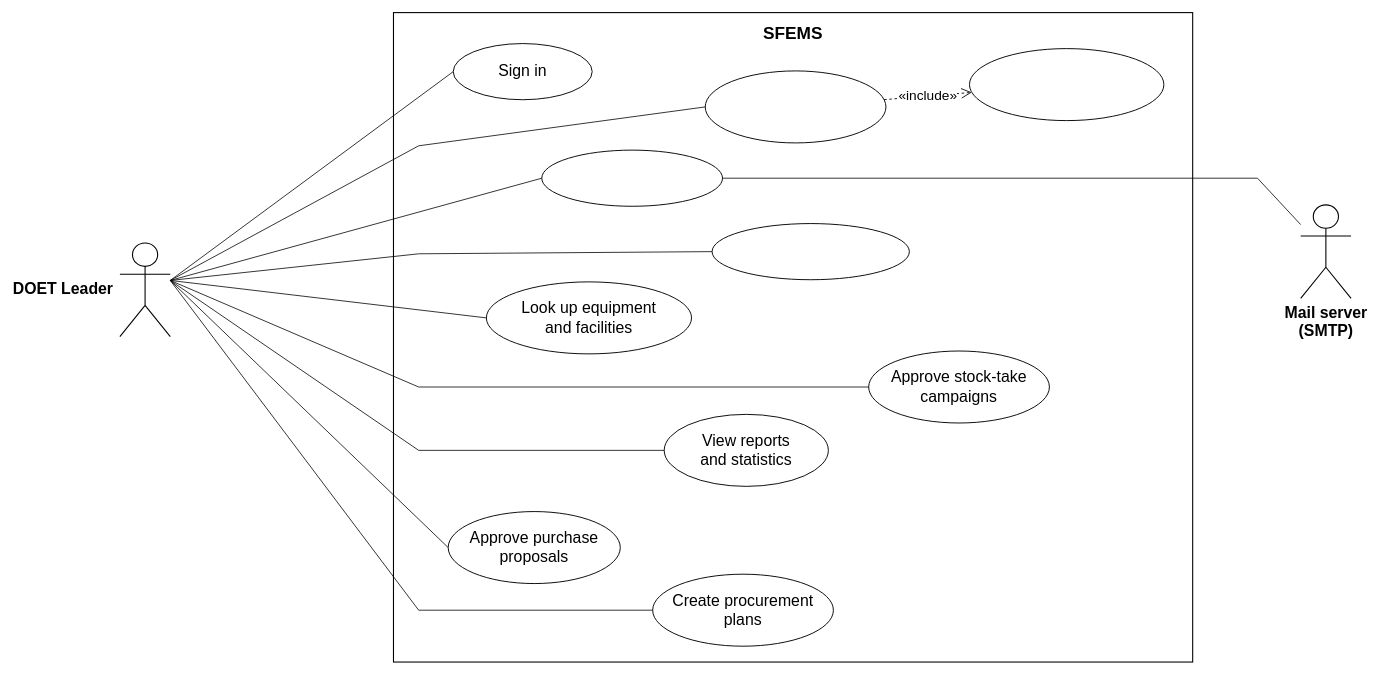
This 1380x675 diagram has some shape labels left out. The shapes that lost their labels are listed below. From the top down, each one's centre as x and y in pixels, then its label:
the point at 1066,84: Complete the proposals in the plan
the point at 795,106: Approve procurement plans
the point at 632,177: Receive notifications
the point at 810,251: Follow stock-takes
